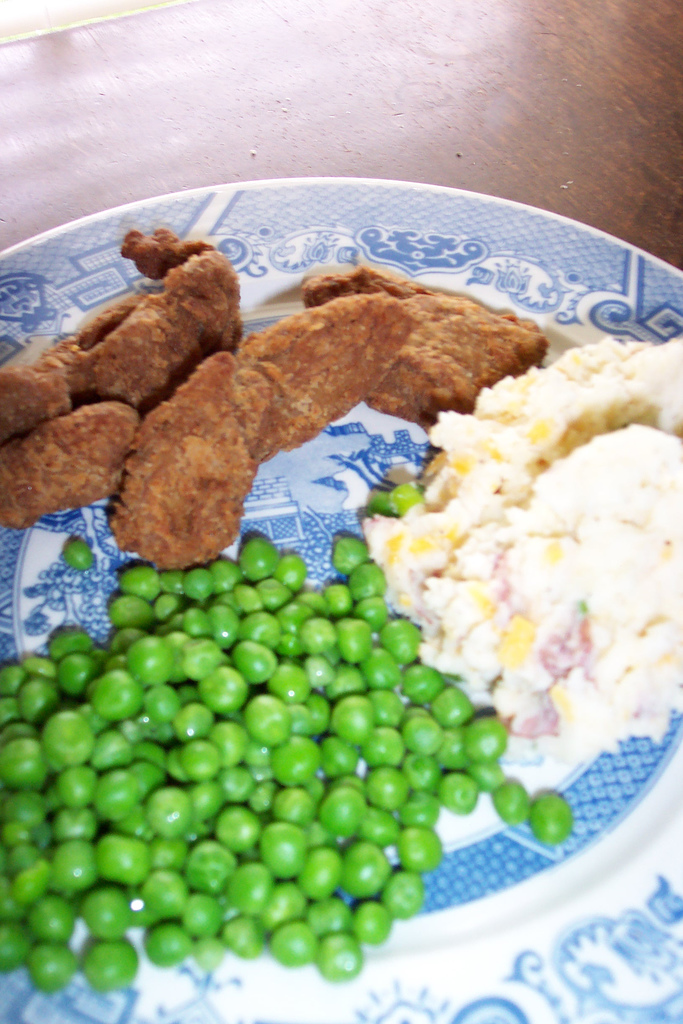boiled peas: (1, 549, 513, 998)
